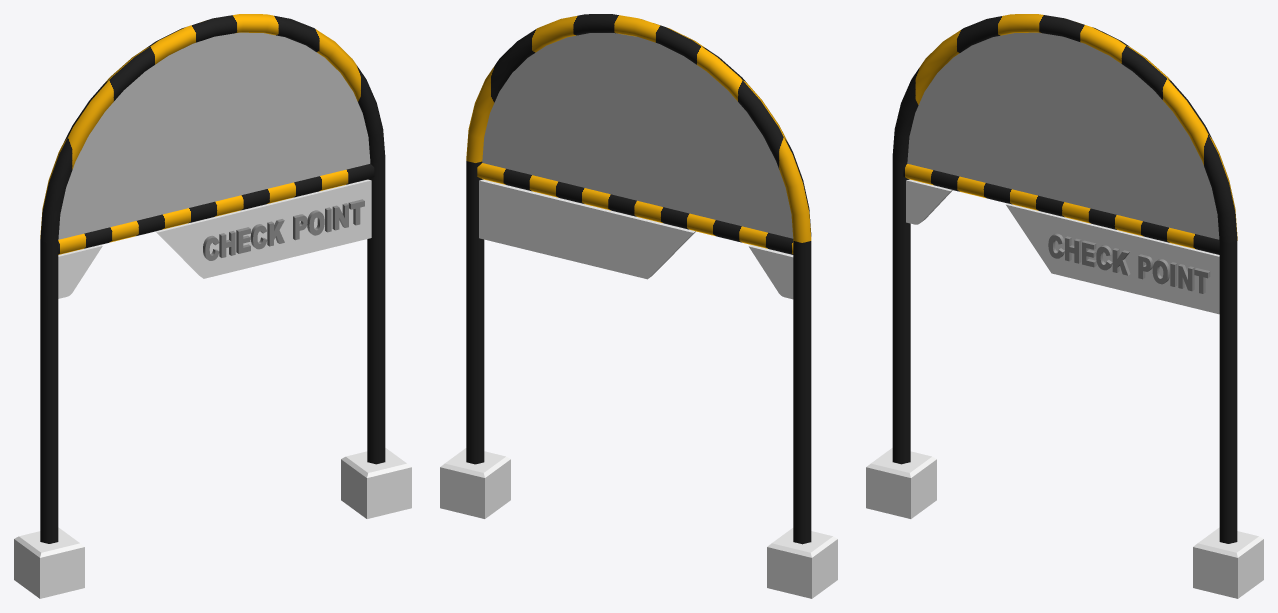
The model's file is Check Point.FBX.
3 views of the same model, side by side, from view 1: azimuth 30°, elevation 25°; view 2: azimuth 150°, elevation 25°; view 3: azimuth 330°, elevation 25° (orthographic).
Visible parts, largest first — view 1: Box005, Cylinder004, Box001, Cylinder001, Cylinder002, Cylinder003, Box003, Box004, Text001, Box002; view 2: Box005, Box001, Cylinder004, Cylinder001, Cylinder003, Cylinder002, Box003, Box004, Box002; view 3: Box005, Cylinder004, Box001, Cylinder002, Cylinder001, Cylinder003, Box004, Box003, Text001, Box002.
Boxes of the visible parts, x1,y1,x2,y2 form: Box005: [58, 32, 370, 239]; Cylinder004: [40, 14, 385, 242]; Box001: [156, 179, 371, 278]; Cylinder001: [40, 241, 58, 543]; Cylinder002: [367, 161, 385, 464]; Cylinder003: [58, 164, 374, 254]; Box003: [14, 527, 84, 598]; Box004: [341, 448, 411, 518]; Text001: [203, 199, 364, 260]; Box002: [58, 244, 102, 298]; Box005: [482, 33, 793, 238]; Box001: [479, 179, 695, 279]; Cylinder004: [466, 14, 811, 242]; Cylinder001: [793, 241, 811, 544]; Cylinder003: [477, 163, 793, 254]; Cylinder002: [466, 161, 484, 464]; Box003: [767, 528, 837, 598]; Box004: [440, 448, 510, 518]; Box002: [748, 245, 793, 299]; Box005: [907, 32, 1219, 239]; Cylinder004: [892, 14, 1237, 242]; Box001: [1006, 203, 1219, 314]; Cylinder002: [1219, 241, 1237, 543]; Cylinder001: [892, 161, 910, 464]; Cylinder003: [903, 164, 1219, 254]; Box004: [1193, 527, 1263, 598]; Box003: [866, 448, 936, 518]; Text001: [1048, 233, 1210, 293]; Box002: [906, 179, 952, 224].
Size of the model in its own units: 124 by 168 by 15.
